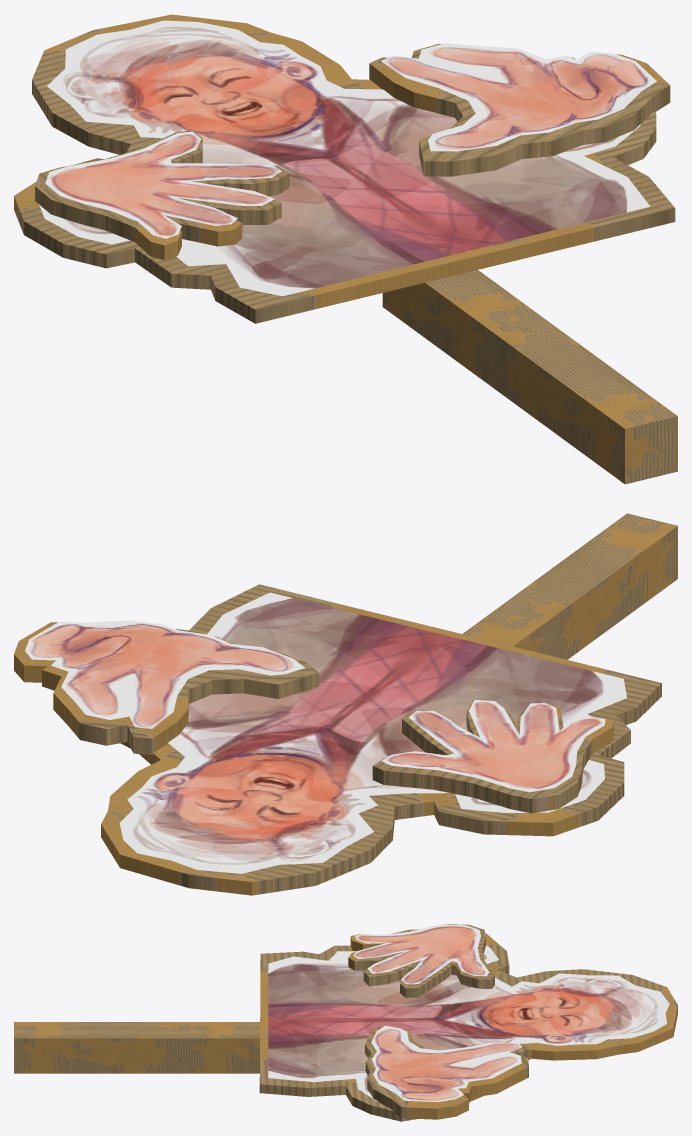
Rendered from Granny2.fbx.
3 views of the same model, one above another, from view 1: azimuth 30°, elevation 25°; view 2: azimuth 150°, elevation 25°; view 3: azimuth 270°, elevation 25° (orthographic). The views are drawn at different scales.
Parts seen in each view (by area): view 1: aunty1nohands.014; view 2: aunty1nohands.014; view 3: aunty1nohands.014.
Boxes of the visible parts, bbox=[...] form: aunty1nohands.014: bbox=[14, 14, 677, 484]; aunty1nohands.014: bbox=[14, 513, 677, 895]; aunty1nohands.014: bbox=[14, 924, 677, 1121].
Bounding box in the file's own units: 102 × 15.43 × 150.
Materials: 4 (4 with a texture image).
